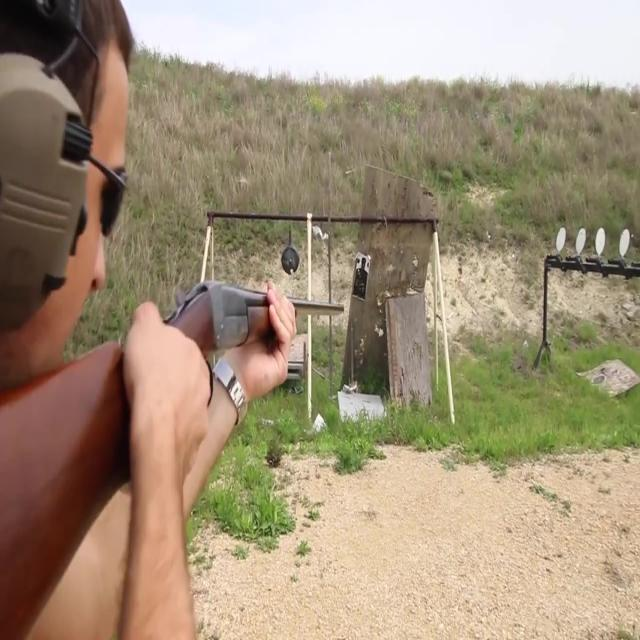Weapon: (0, 264, 382, 538)
